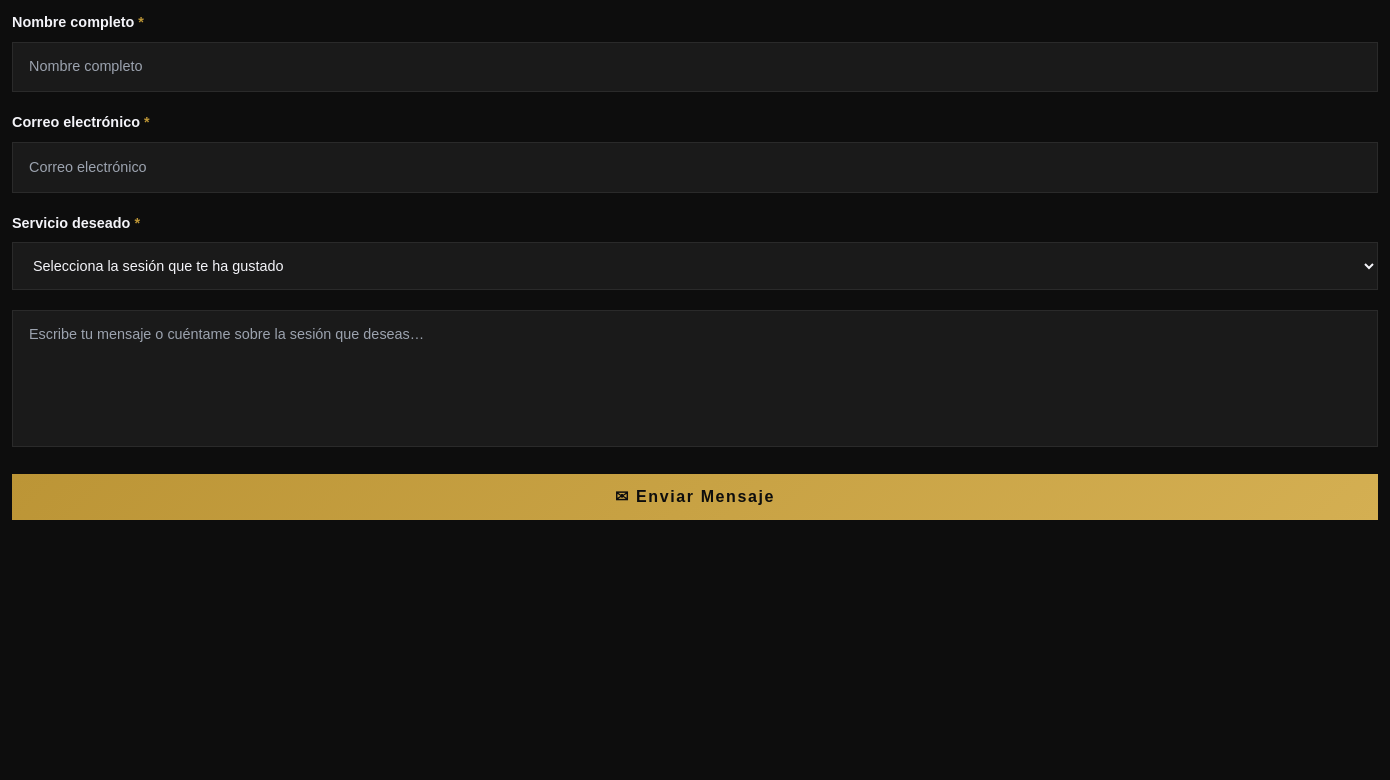
Test case: ContactForm › shows validation errors when required fields are missing
What coordinates should you click on to do the following:
click the button "✉ Enviar Mensaje"
I would click on:
 (695, 497)
Its box is [12,474,1378,520].
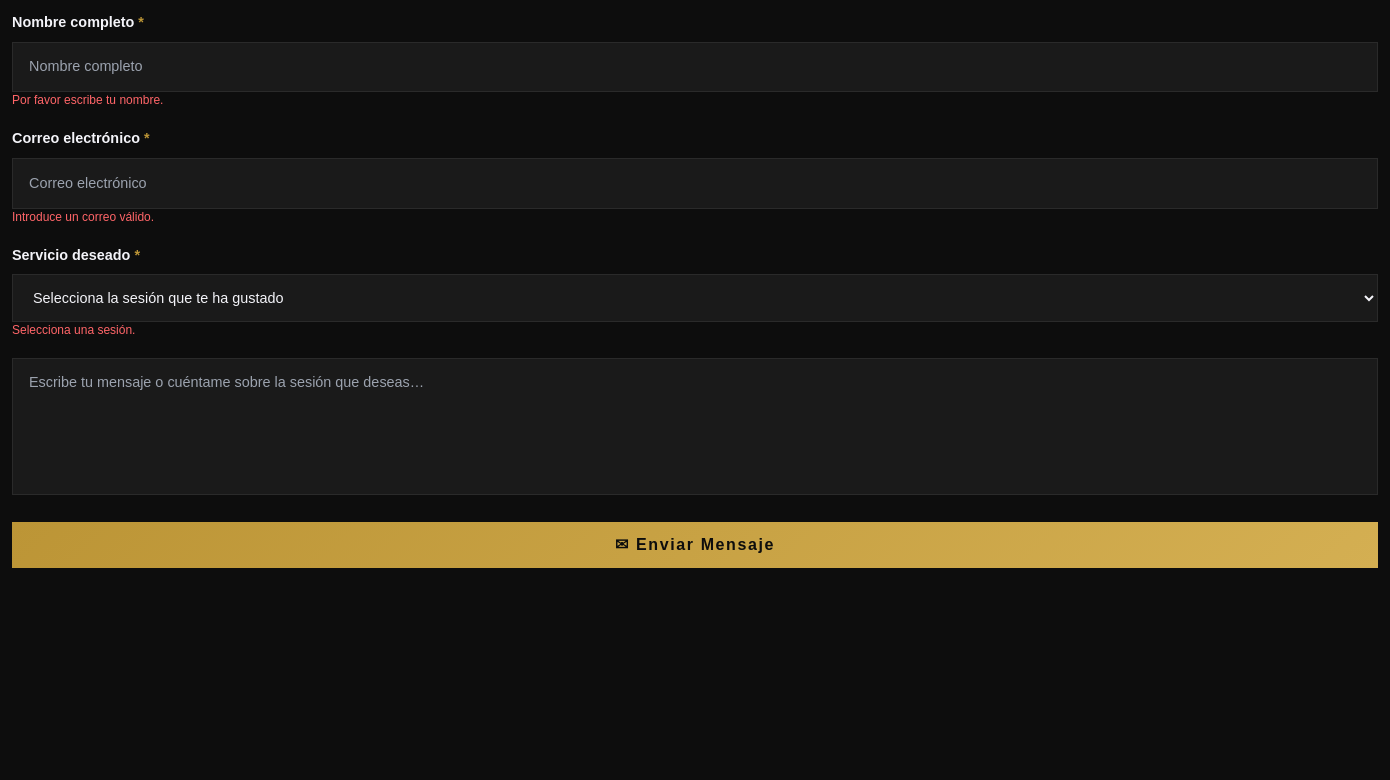
Check: the text "Por favor escribe tu nombre." is shown, box [12,93,163,107]
Check: the text "Introduce un correo válido." is shown, box [12,210,154,224]
Check: the text "Selecciona una sesión." is shown, box [12,322,135,336]
